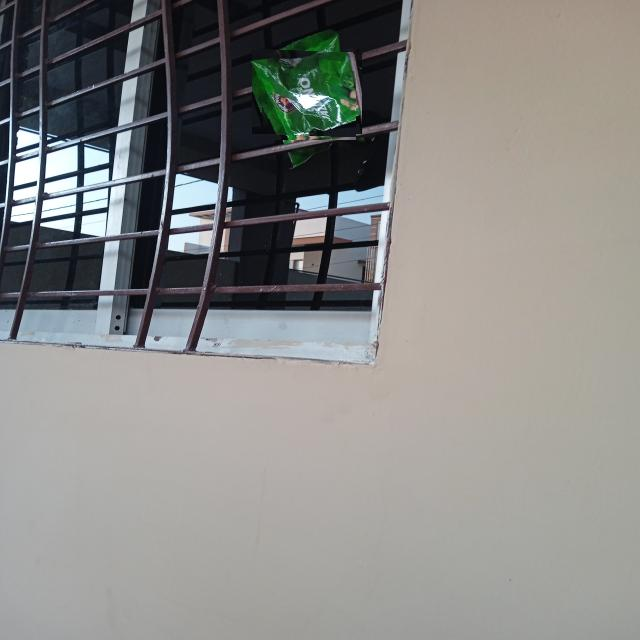Plastic: (258, 42, 356, 140)
